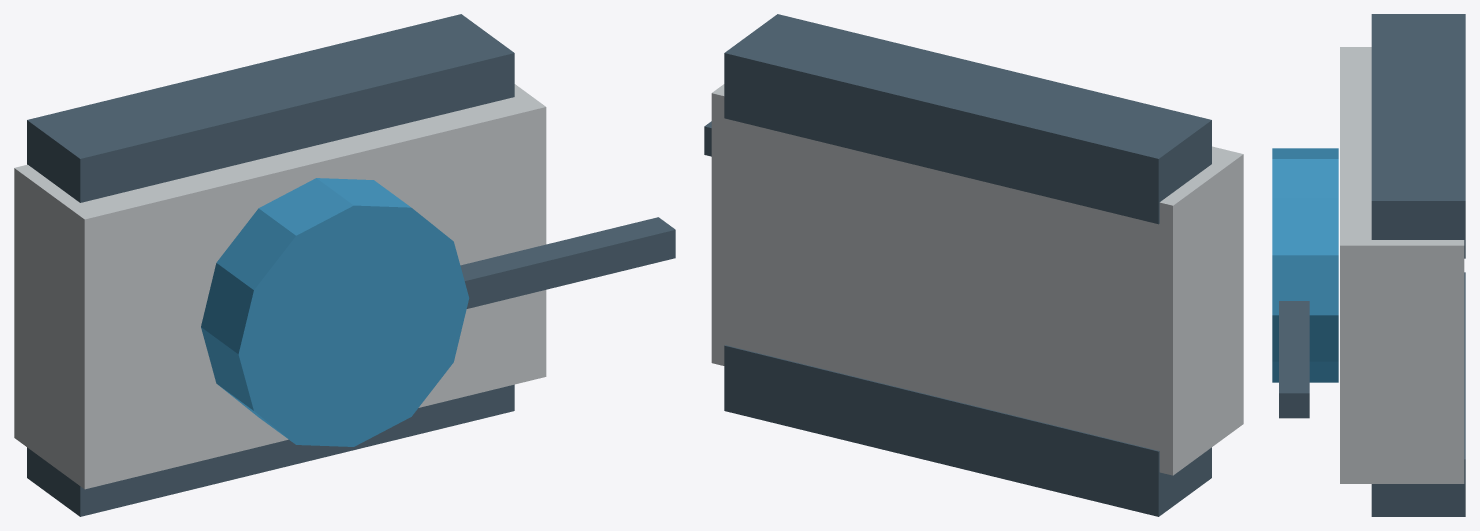
The model's file is u_artillery.glb.
3 views of the same model, side by side, from view 1: azimuth 30°, elevation 25°; view 2: azimuth 150°, elevation 25°; view 3: azimuth 270°, elevation 25° (orthographic). The views are drawn at different scales.
Visible parts, largest first — view 1: chassis, turret, track_1.03, track_-1.03, cannon_0; view 2: chassis, track_1.03, track_-1.03; view 3: chassis, track_1.03, turret, cannon_0, track_-1.03.
Boxes of the visible parts, box(x1,y1,x2,y2) form: chassis: box(14, 84, 546, 489); turret: box(201, 178, 469, 446); track_1.03: box(27, 14, 514, 202); track_-1.03: box(27, 384, 514, 516); cannon_0: box(460, 217, 675, 308); chassis: box(711, 84, 1243, 475); track_1.03: box(724, 14, 1211, 224); track_-1.03: box(724, 345, 1211, 516); chassis: box(1340, 47, 1464, 483); track_1.03: box(1371, 14, 1465, 258); turret: box(1272, 148, 1338, 382); cannon_0: box(1279, 301, 1309, 418); track_-1.03: box(1371, 272, 1465, 516).
Size of the model in its own units: 4.1 by 2.52 by 1.4.
